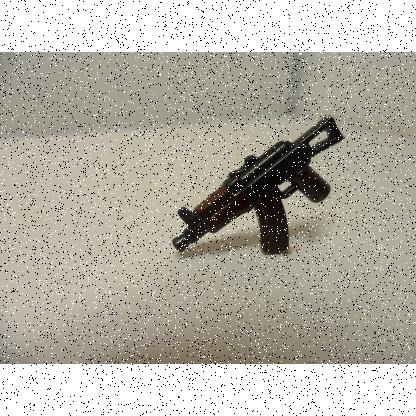gun: (170, 112, 346, 264)
